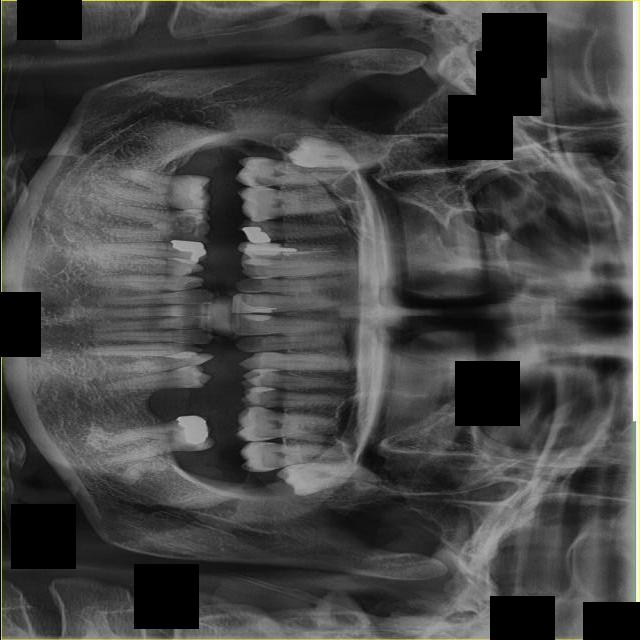71: (245, 246, 297, 253)
72: (117, 455, 167, 485)
74: (283, 249, 335, 256), (311, 245, 333, 251)
NucleOSS Implant: (169, 229, 208, 265), (174, 412, 210, 447), (239, 219, 271, 251)
Sterngold Implant: (158, 215, 209, 242), (255, 176, 281, 188), (262, 156, 283, 167), (179, 442, 200, 452), (252, 434, 275, 443), (162, 420, 178, 429), (257, 407, 271, 415), (256, 440, 271, 446), (260, 455, 265, 467), (259, 291, 274, 293)
Straumann Implant: (242, 243, 283, 265), (231, 293, 271, 314), (244, 313, 271, 322)
